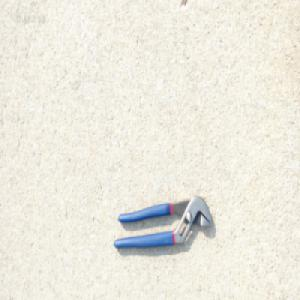Pliers: (112, 194, 216, 249)
